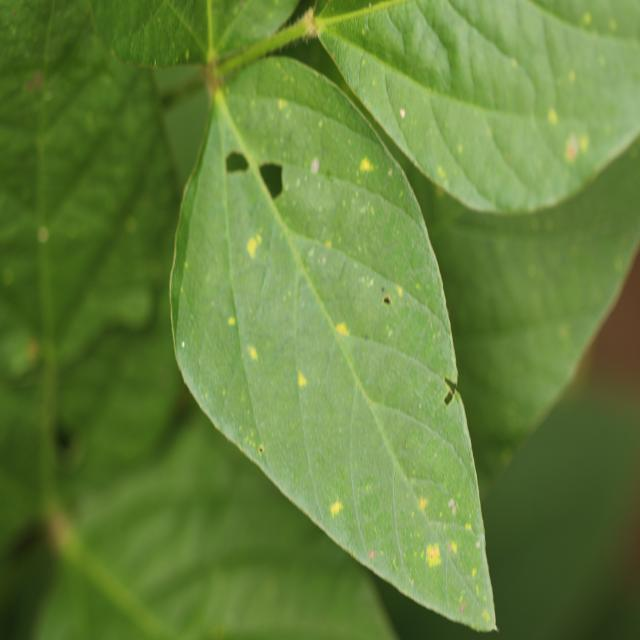Soybean: (131, 0, 640, 635)
downey_mildew: (21, 7, 86, 629), (414, 83, 633, 219), (457, 180, 610, 344), (49, 155, 154, 355), (420, 6, 624, 104), (288, 5, 410, 167), (212, 117, 260, 467), (351, 517, 490, 629), (121, 500, 237, 611), (173, 547, 310, 627), (27, 6, 63, 305), (169, 124, 205, 418), (411, 191, 459, 400), (224, 153, 282, 312), (347, 335, 382, 590), (174, 52, 221, 219), (400, 444, 472, 545), (387, 387, 418, 604), (508, 2, 640, 48), (317, 295, 372, 387), (284, 327, 329, 438), (220, 2, 304, 61), (153, 0, 218, 65), (316, 0, 424, 30), (158, 67, 215, 105)
